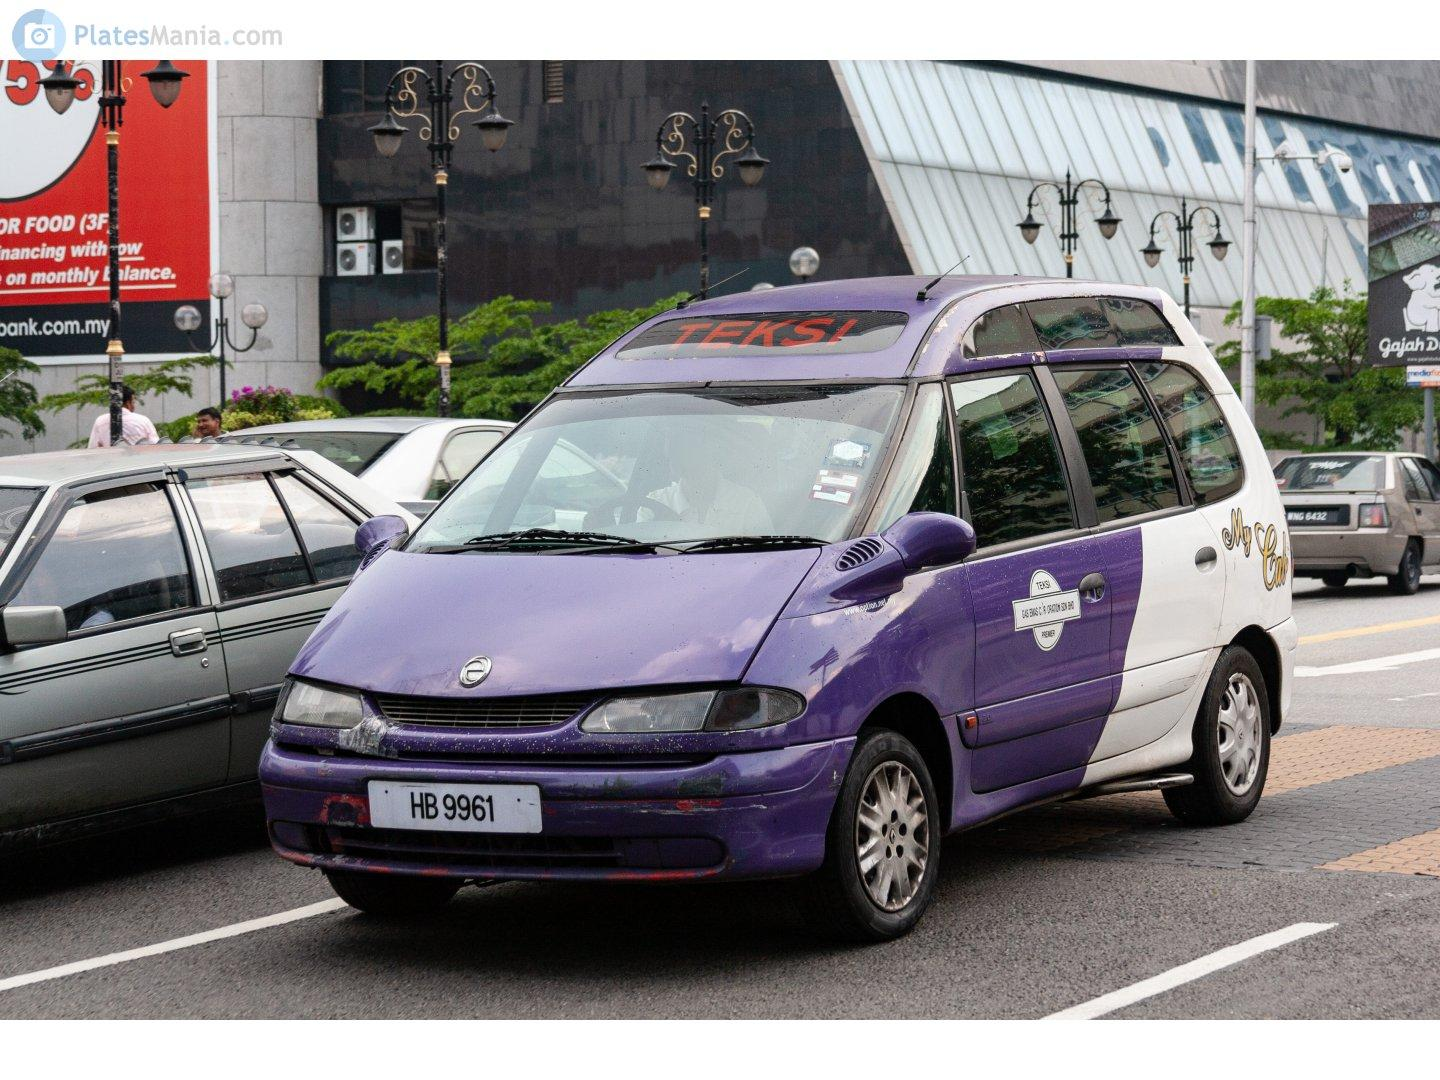License Plate: (370, 783, 545, 829)
